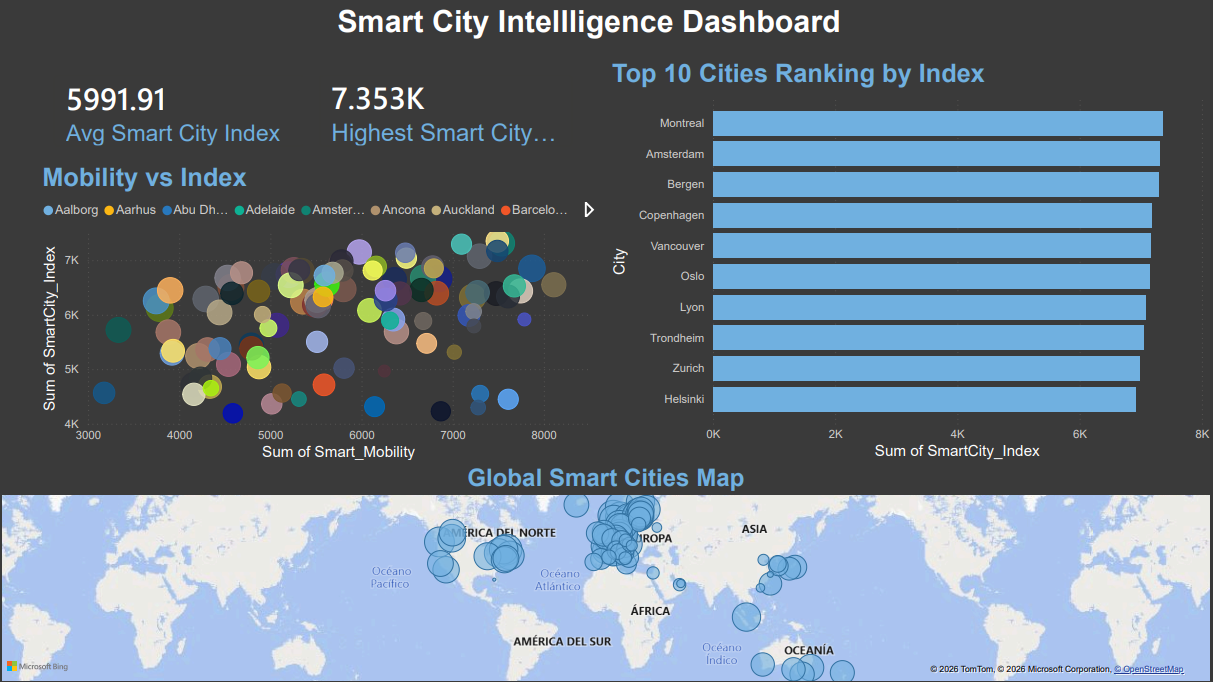

The dashboard page shown, as its layout file describes it:
{"tool":"powerbi","page":{"name":"Page 1","canvas":[1280,720],"ordinal":0},"visuals":[{"type":"textbox","box":[315.6,0,612.3,62.4],"z":0},{"type":"cardVisual","fields":{"Data":["Avg(Smart_City_index_headers.SmartCity_Index)"]},"box":[41.8,61.7,298.8,109.5],"z":1000},{"type":"clusteredBarChart","title":"Top 10 Cities Ranking by Index","fields":{"Category":["Smart_City_index_headers.City"],"Y":["Sum(Smart_City_index_headers.SmartCity_Index)"]},"box":[640.6,62.4,638.7,425.2],"z":2000},{"type":"scatterChart","title":"Mobility vs Index","fields":{"X":["Sum(Smart_City_index_headers.Smart_Mobility)"],"Y":["Sum(Smart_City_index_headers.SmartCity_Index)"],"Series":["Smart_City_index_headers.City"],"Size":["Sum(Smart_City_index_headers.Smart_Economy)"]},"box":[42.2,171.9,598.6,315.7],"z":3000},{"type":"map","title":"Global Smart Cities Map","fields":{"Category":["Smart_City_index_headers.City"],"Size":["Sum(Smart_City_index_headers.SmartCity_Index)"]},"box":[0,487.6,1279.4,232.4],"z":4000},{"type":"cardVisual","fields":{"Data":["Max(Smart_City_index_headers.SmartCity_Index)"]},"box":[321.3,62.4,300.5,109.6],"z":5000}]}

Visuals, with their boxes in screenshot pixels (x1, y1, x2, y2), scaled from the page's 1280x720 canvas onto the 1213x682 screenshot:
textbox: rect(299, 0, 879, 59)
cardVisual - Avg(Smart_City_index_headers.SmartCity_Index): rect(40, 58, 323, 162)
"Top 10 Cities Ranking by Index" clusteredBarChart: rect(607, 59, 1212, 462)
"Mobility vs Index" scatterChart: rect(40, 163, 607, 462)
"Global Smart Cities Map" map: rect(0, 462, 1212, 681)
cardVisual - Max(Smart_City_index_headers.SmartCity_Index): rect(304, 59, 589, 163)
